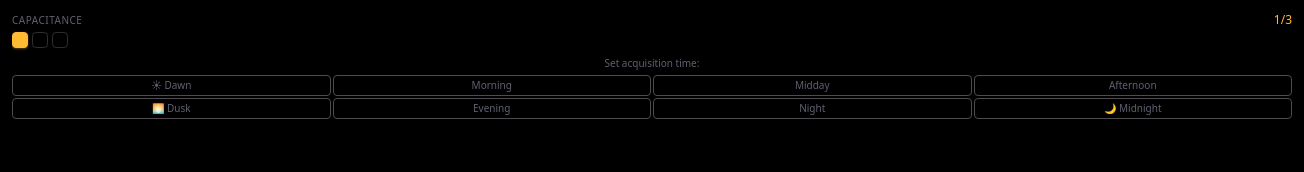
Test case: SiphonCapacitanceTracker › clicking a preset sets the timer
Click the button "Morning" at (492, 86), box [332, 75, 651, 96]
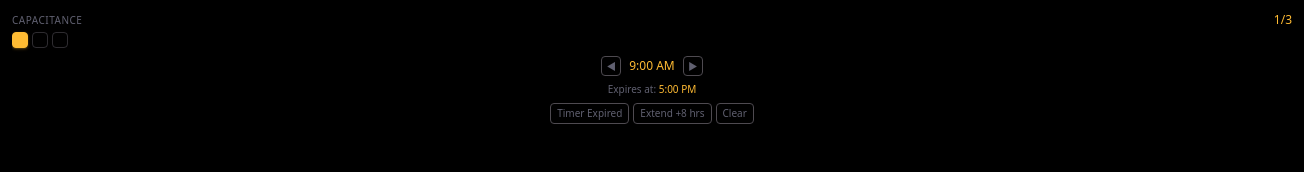
Expected: the button "9:00 AM" is shown, [629, 58, 675, 74]
Expected: the text "5:00 PM" is shown, [659, 82, 696, 96]
